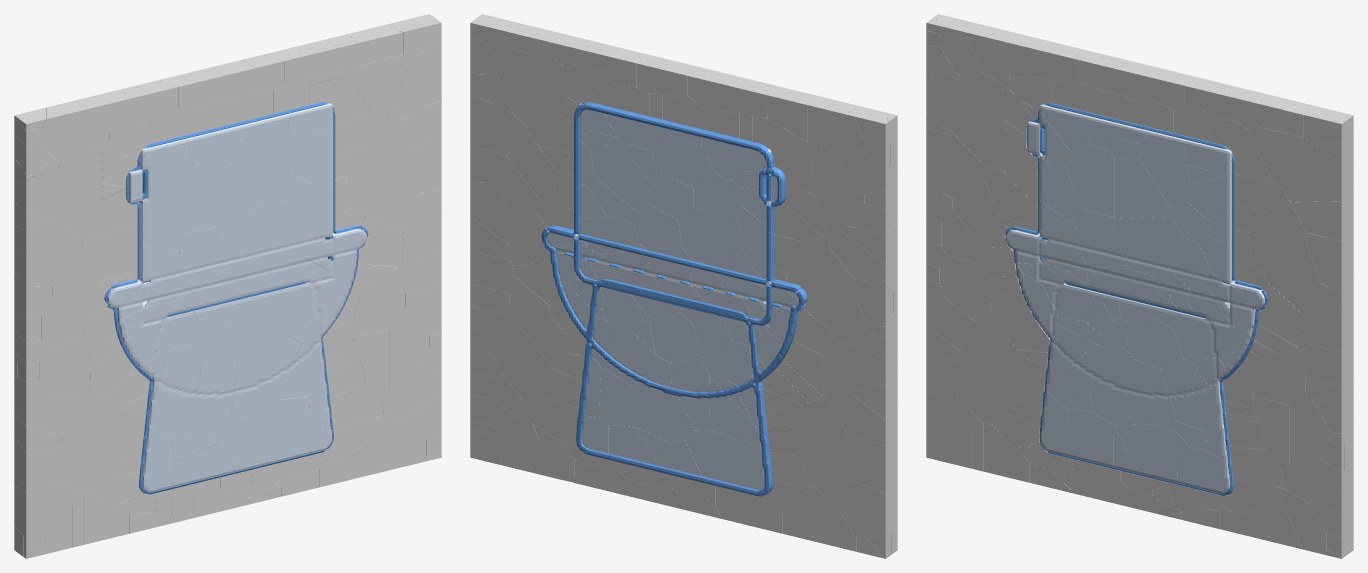
Rendered from Toilet.fbx.
3 views of the same model, side by side, from view 1: azimuth 30°, elevation 25°; view 2: azimuth 150°, elevation 25°; view 3: azimuth 330°, elevation 25° (orthographic).
Parts seen in each view (by area): view 1: Cube_cell.041, Cube_cell.122, Base_cell.046, Base_cell.072, Base_cell.002, Base_cell.081, Base_cell.096, Cube_cell.201, Cube_cell.108, Cube_cell.187, Cube_cell.150, Base_cell.089 (+130 smaller); view 2: Cube_cell.041, Cube_cell.082, Base_cell.048, Cube_cell.122, Base_cell.015, Cube_cell.038, Base_cell.054, Base_cell.024, Cube_cell.020, Cube_cell.025, Base_cell.075, Base_cell.029 (+148 smaller); view 3: Cube_cell.041, Cube_cell.122, Base_cell.046, Base_cell.072, Base_cell.002, Base_cell.081, Base_cell.096, Cube_cell.201, Cube_cell.108, Base_cell.089, Cube_cell.150, Base_cell.038 (+133 smaller).
Boxes of the visible parts, x1=… form: Cube_cell.041: x1=61, y1=397, x2=126, y2=495; Cube_cell.122: x1=57, y1=147, x2=103, y2=236; Base_cell.046: x1=217, y1=198, x2=285, y2=269; Base_cell.072: x1=194, y1=351, x2=237, y2=433; Base_cell.002: x1=219, y1=408, x2=293, y2=469; Base_cell.081: x1=168, y1=161, x2=217, y2=232; Base_cell.096: x1=218, y1=155, x2=274, y2=226; Cube_cell.201: x1=349, y1=124, x2=405, y2=210; Cube_cell.108: x1=39, y1=338, x2=90, y2=400; Cube_cell.187: x1=14, y1=227, x2=83, y2=286; Cube_cell.150: x1=350, y1=269, x2=405, y2=337; Base_cell.089: x1=230, y1=355, x2=278, y2=418; Cube_cell.041: x1=794, y1=399, x2=846, y2=492; Cube_cell.082: x1=501, y1=310, x2=553, y2=405; Base_cell.048: x1=678, y1=208, x2=742, y2=265; Cube_cell.122: x1=811, y1=147, x2=854, y2=236; Base_cell.015: x1=685, y1=430, x2=751, y2=486; Cube_cell.038: x1=828, y1=478, x2=886, y2=539; Base_cell.054: x1=590, y1=145, x2=649, y2=212; Base_cell.024: x1=635, y1=382, x2=693, y2=442; Cube_cell.020: x1=846, y1=436, x2=897, y2=494; Cube_cell.025: x1=470, y1=95, x2=524, y2=155; Base_cell.075: x1=652, y1=135, x2=716, y2=187; Base_cell.029: x1=649, y1=302, x2=703, y2=362; Cube_cell.041: x1=961, y1=326, x2=1026, y2=424; Cube_cell.122: x1=957, y1=74, x2=1003, y2=163; Base_cell.046: x1=1113, y1=217, x2=1181, y2=275; Base_cell.072: x1=1090, y1=338, x2=1134, y2=425; Base_cell.002: x1=1115, y1=424, x2=1189, y2=480; Base_cell.081: x1=1064, y1=146, x2=1114, y2=217; Base_cell.096: x1=1114, y1=158, x2=1170, y2=218; Cube_cell.201: x1=1249, y1=199, x2=1305, y2=273; Cube_cell.108: x1=939, y1=256, x2=990, y2=327; Base_cell.089: x1=1127, y1=359, x2=1175, y2=427; Cube_cell.150: x1=1250, y1=349, x2=1305, y2=404; Base_cell.038: x1=1139, y1=138, x2=1189, y2=208.
Bounding box in the file's own units: 1000 × 1000 × 73.99.
